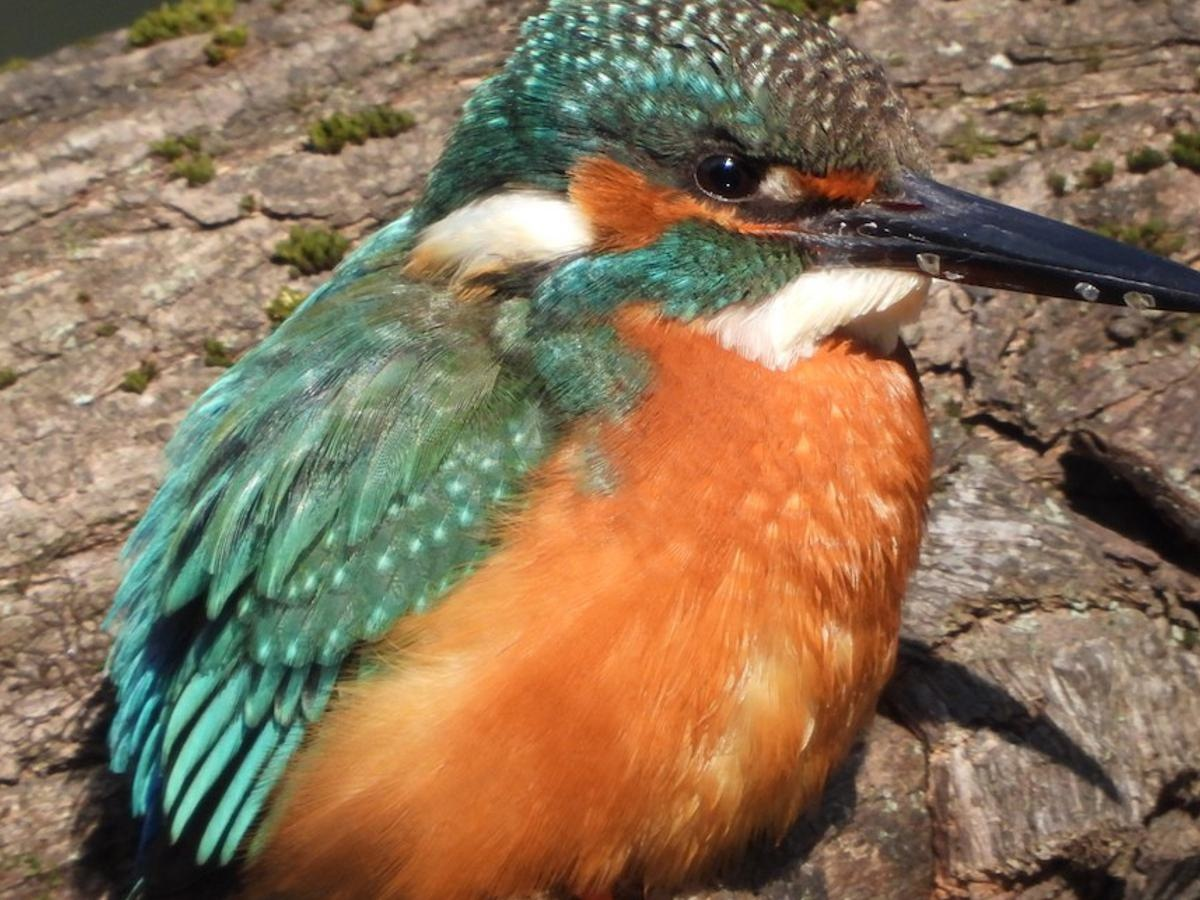kingfisher: (121, 3, 1200, 900)
